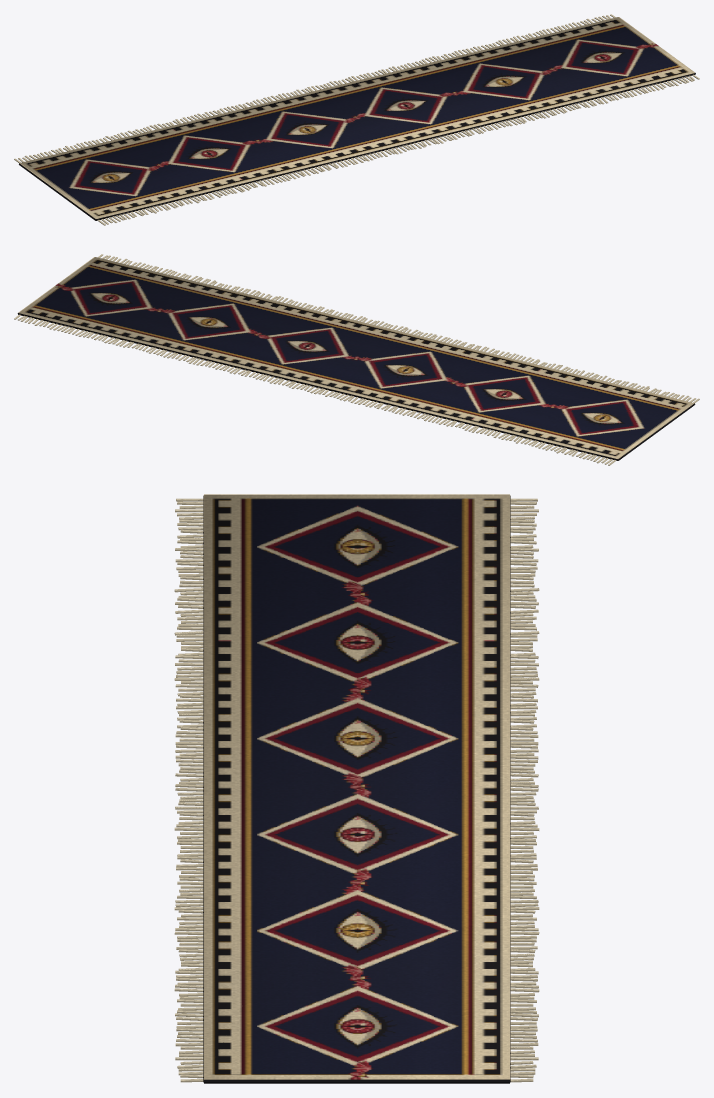
Rendered from WatchingRunner.fbx.
The picture shows the model from 3 angles, top to bottom: view 1: azimuth 30°, elevation 25°; view 2: azimuth 150°, elevation 25°; view 3: azimuth 270°, elevation 25°; orthographic projection. The views are drawn at different scales.
Parts seen in each view (by area): view 1: WatchingRunner; view 2: WatchingRunner; view 3: WatchingRunner.
Part boxes in pixels (x1=…): WatchingRunner: x1=14, y1=14, x2=699, y2=225; WatchingRunner: x1=14, y1=254, x2=699, y2=465; WatchingRunner: x1=174, y1=494, x2=539, y2=1083.
Size of the model in its own units: 1807 by 6 by 475.
